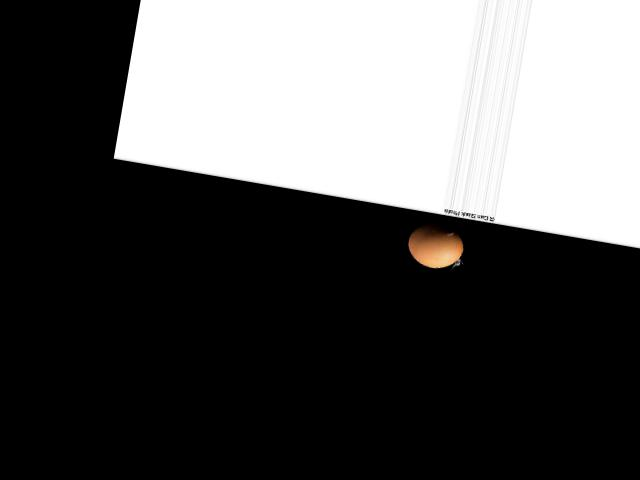egg: (404, 218, 466, 271)
